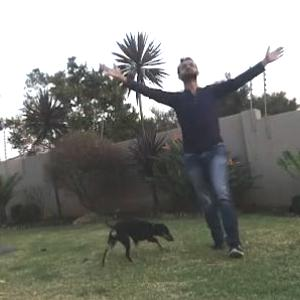takeoff: (118, 58, 281, 244)
